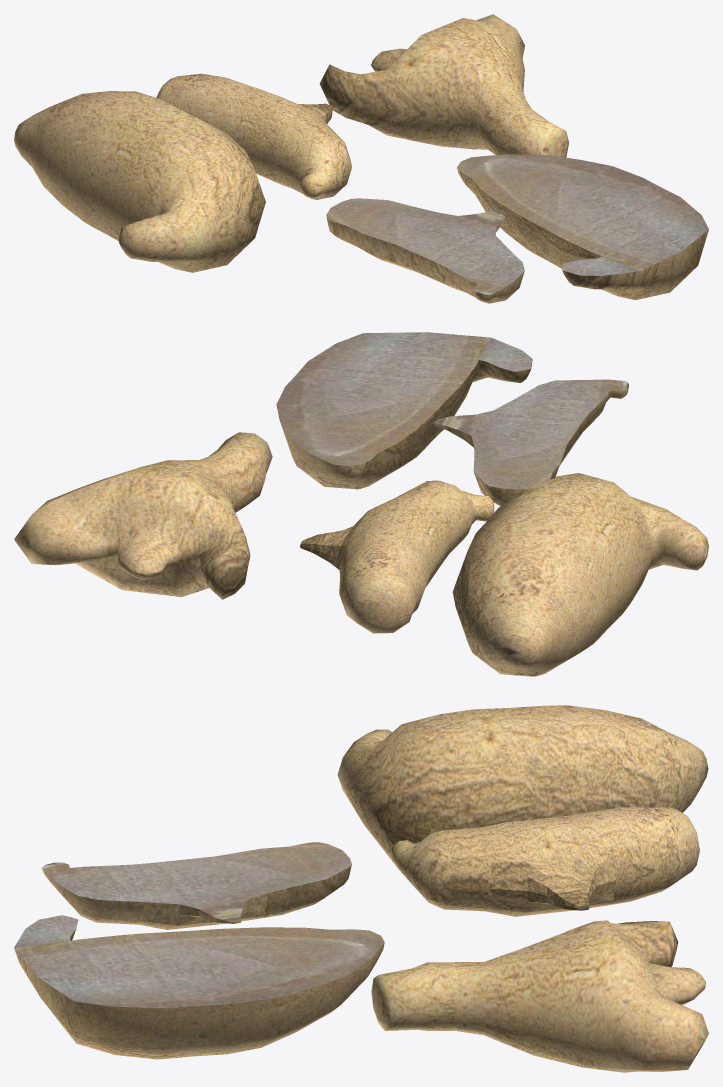
File: jianghuang.FBX
3 renders of one model, top to bottom at view 1: azimuth 30°, elevation 25°; view 2: azimuth 150°, elevation 25°; view 3: azimuth 270°, elevation 25°, orthographic. The views are drawn at different scales.
Visible parts, largest first — view 1: Cylinder001, Cylinder004, Cylinder003, Cylinder002, Cylinder005; view 2: Cylinder001, Cylinder003, Cylinder004, Cylinder002, Cylinder005; view 3: Cylinder004, Cylinder001, Cylinder003, Cylinder002, Cylinder005.
Boxes of the visible parts, x1=… form: Cylinder001: x1=14, y1=91, x2=265, y2=272; Cylinder004: x1=457, y1=154, x2=708, y2=300; Cylinder003: x1=319, y1=14, x2=569, y2=157; Cylinder002: x1=156, y1=73, x2=351, y2=199; Cylinder005: x1=326, y1=198, x2=524, y2=303; Cylinder001: x1=452, y1=473, x2=708, y2=676; Cylinder003: x1=14, y1=432, x2=272, y2=599; Cylinder004: x1=276, y1=332, x2=532, y2=489; Cylinder002: x1=300, y1=480, x2=494, y2=633; Cylinder005: x1=434, y1=379, x2=628, y2=506; Cylinder004: x1=14, y1=915, x2=384, y2=1059; Cylinder001: x1=337, y1=705, x2=708, y2=859; Cylinder003: x1=371, y1=920, x2=708, y2=1072; Cylinder002: x1=390, y1=807, x2=699, y2=916; Cylinder005: x1=41, y1=842, x2=351, y2=929.
Bounding box in the file's own units: 68.16 × 16.58 × 67.77.
